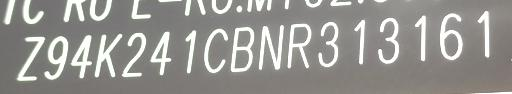letter: (284, 20, 316, 70), (256, 21, 288, 71), (14, 34, 48, 80), (228, 24, 260, 72), (118, 29, 150, 77), (340, 16, 370, 64), (173, 24, 203, 72), (66, 31, 96, 79), (94, 30, 124, 77), (436, 11, 464, 59), (202, 24, 230, 72), (146, 27, 174, 75), (374, 15, 402, 62), (407, 12, 435, 58), (314, 20, 340, 69), (468, 8, 492, 59), (43, 33, 69, 80)
